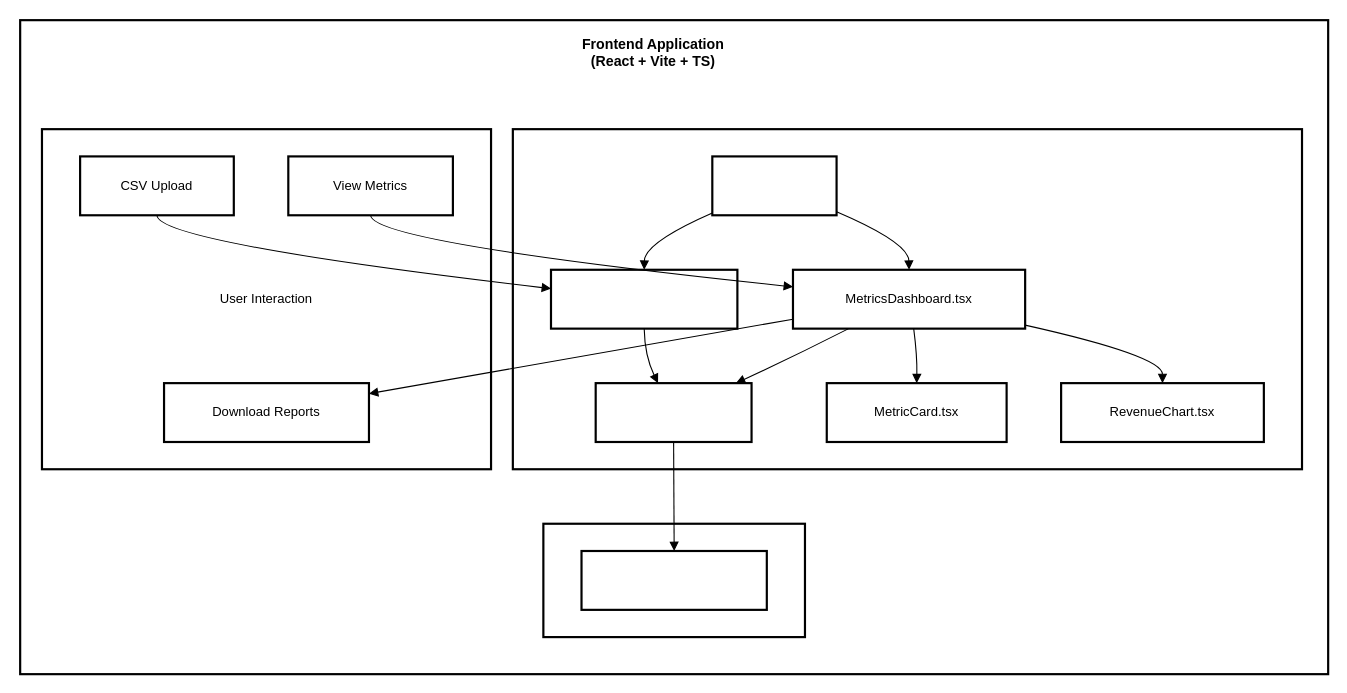
The diagram is 1347 pixels wide and 693 high, and some of its shapes have lost their labels. Here are the shapes that lost their labels. From the top down, the centre of each, then its label:
At pixel 774 185: "App.tsx".
At pixel 643 298: "UploadZone.tsx".
At pixel 673 412: "apiClient.ts".
At pixel 673 579: "Backend Server".
